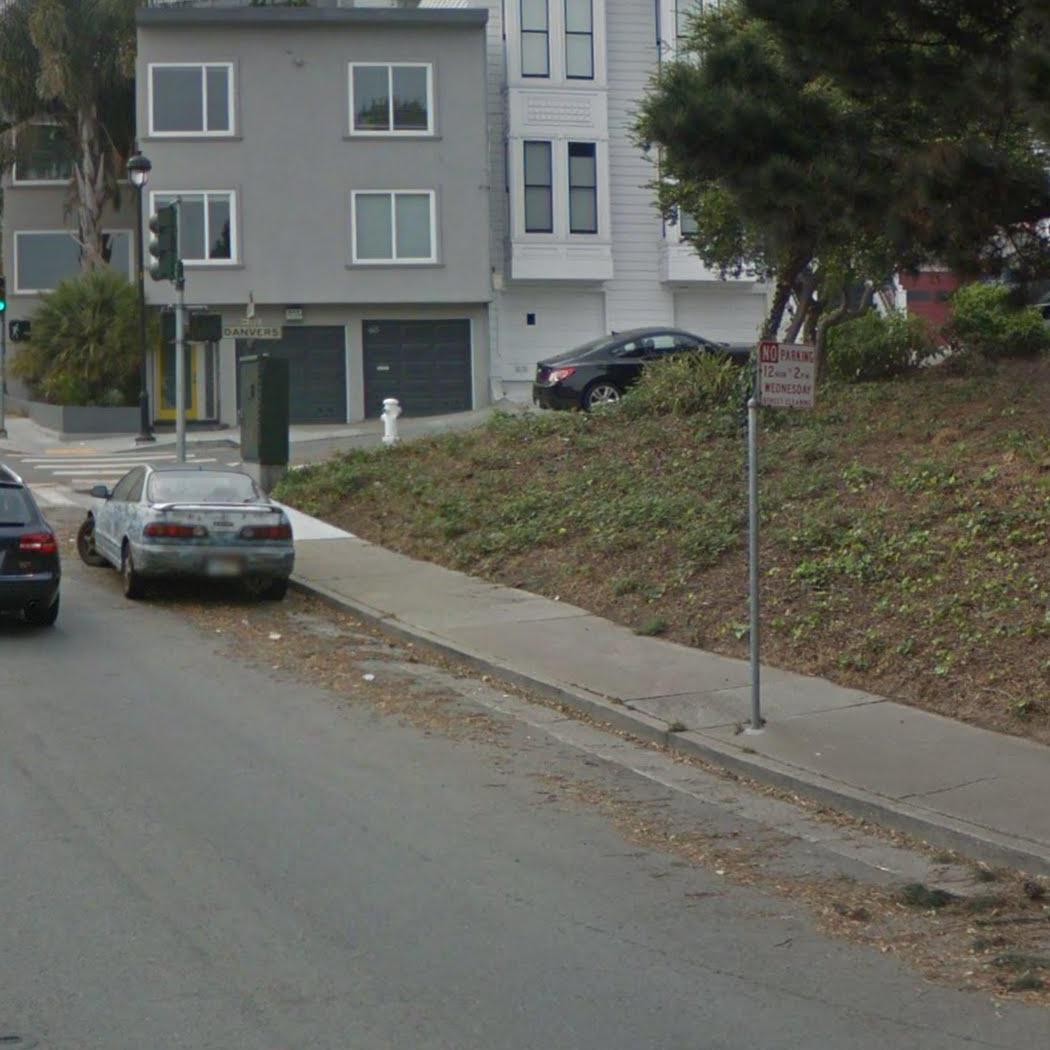No Parking: (754, 338, 820, 412)
